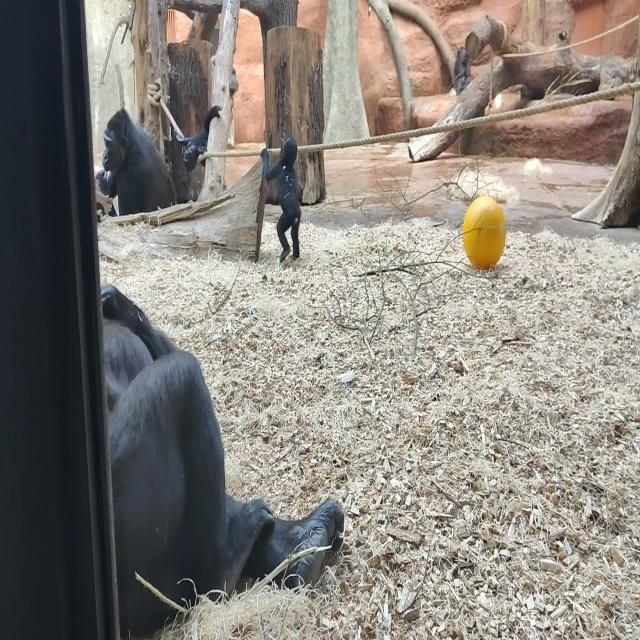monkey: (100, 284, 344, 640), (96, 108, 176, 216), (260, 136, 302, 263), (176, 105, 222, 172)
